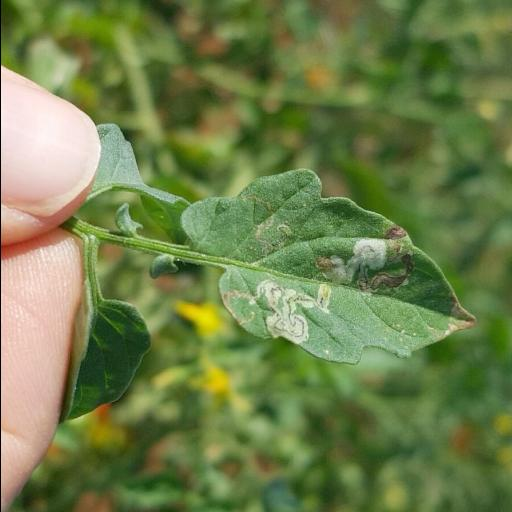Leaf Miner: (176, 167, 479, 366)
